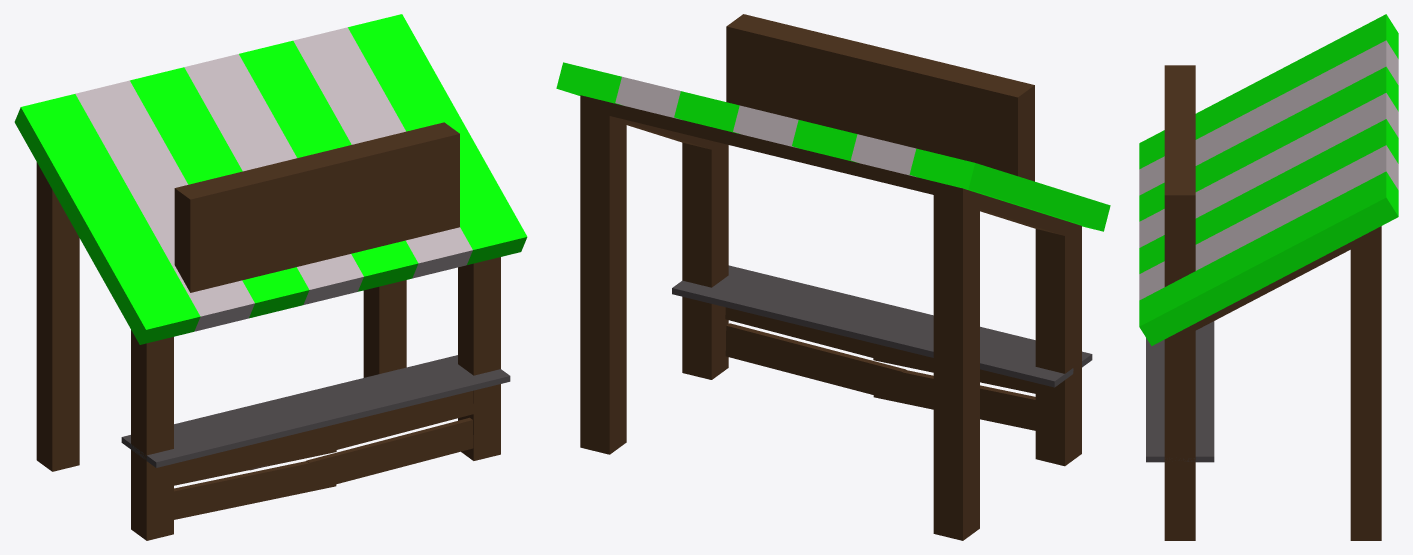
The model's file is shop1.fbx.
3 renders of one model, left to right at view 1: azimuth 30°, elevation 25°; view 2: azimuth 150°, elevation 25°; view 3: azimuth 270°, elevation 25°, orthographic. The views are drawn at different scales.
Visible parts, largest first — view 1: shop; view 2: shop; view 3: shop.
Boxes of the visible parts, x1,y1,x2,y2 form: shop: [14, 14, 527, 540]; shop: [556, 14, 1110, 540]; shop: [1139, 14, 1398, 540].
Bounding box in the file's own units: 1400 × 1245 × 837.
